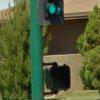Traffic light: (40, 2, 69, 28)
